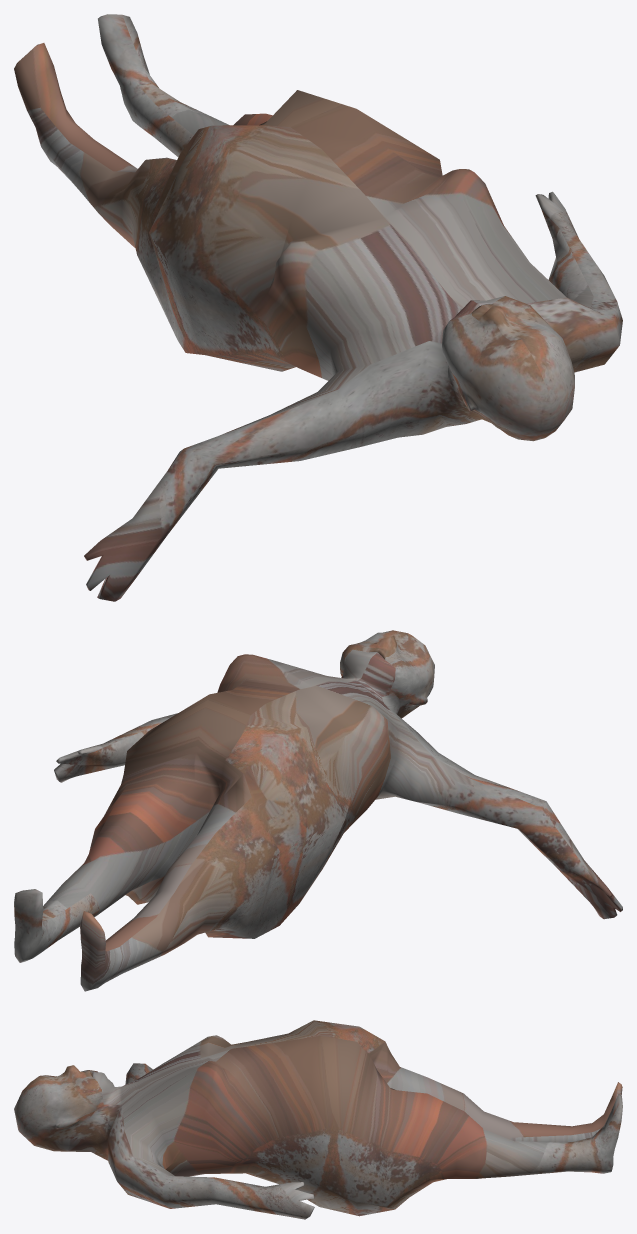
The model's file is Women.fbx.
The picture shows the model from 3 angles, top to bottom: view 1: azimuth 30°, elevation 25°; view 2: azimuth 150°, elevation 25°; view 3: azimuth 270°, elevation 25°; orthographic projection. The views are drawn at different scales.
Parts seen in each view (by area): view 1: Object_8; view 2: Object_8; view 3: Object_8.
Part boxes in pixels (box(x1,y1,x2,y2)): Object_8: box(14, 14, 622, 601); Object_8: box(14, 630, 622, 991); Object_8: box(14, 1020, 622, 1219).
Bounding box in the file's own units: 120 × 56.64 × 162.
